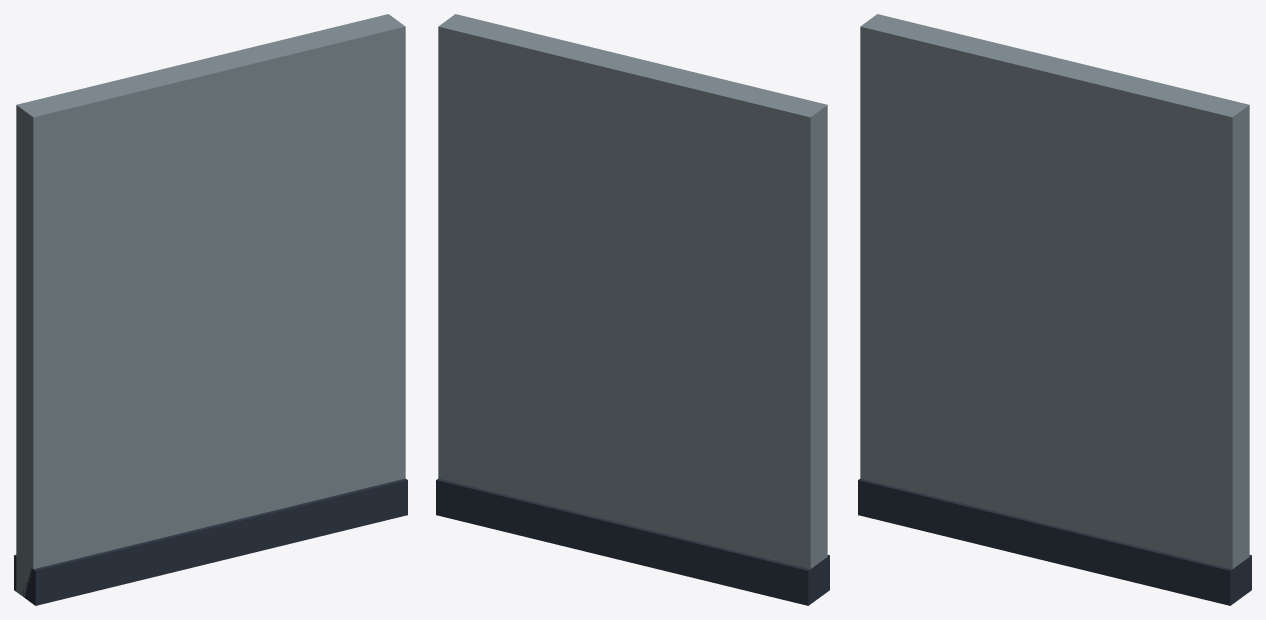
Rendered from wall.gltf.
3 renders of one model, left to right at view 1: azimuth 30°, elevation 25°; view 2: azimuth 150°, elevation 25°; view 3: azimuth 330°, elevation 25°, orthographic.
Parts seen in each view (by area): view 1: Wall section; view 2: Wall section; view 3: Wall section.
Boxes of the visible parts, bbox=[...] form: Wall section: bbox=[14, 14, 407, 605]; Wall section: bbox=[436, 14, 829, 605]; Wall section: bbox=[858, 14, 1251, 605].
Size of the model in its own units: 2 by 2.5 by 0.2.
